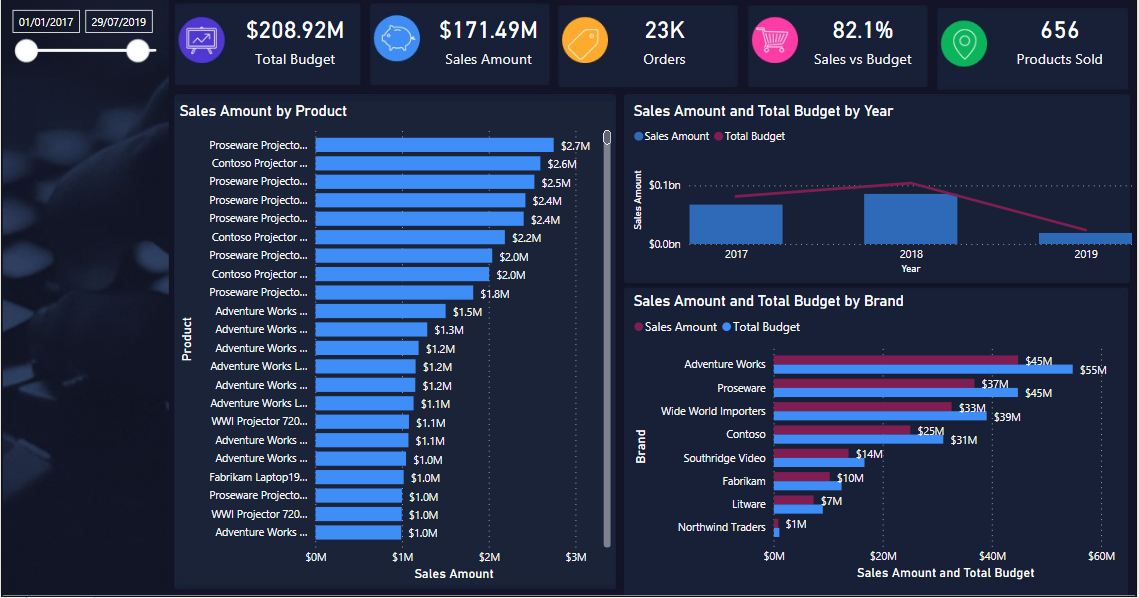

This screenshot's page, from the dashboard's own definition file:
{"tool":"powerbi","page":{"name":"Sales","canvas":[1280,720],"ordinal":0},"visuals":[{"type":"clusteredBarChart","fields":{"Category":["Product.Product"],"Y":["Sales.Sales Amount"]},"box":[196,161.9,495.6,543.9],"z":0},{"type":"clusteredBarChart","fields":{"Category":["Product.Brand"],"Y":["Sales.Sales Amount","Budget.Total Budget"]},"box":[707.2,376.3,572.3,329.5],"z":1000},{"type":"lineClusteredColumnComboChart","fields":{"Category":["Date.Date.Variation.Date Hierarchy.Year","Date.Date.Variation.Date Hierarchy.Quarter","Date.Date.Variation.Date Hierarchy.Month","Date.Date.Variation.Date Hierarchy.Day"],"Y2":["Budget.Total Budget"],"Y":["Sales.Sales Amount"]},"box":[707.2,161.9,572.3,198.8],"z":2000},{"type":"card","fields":{"Values":["Sales.Sales Amount"]},"box":[478.6,48.3,140.6,83.8],"z":3000},{"type":"card","fields":{"Values":["Budget.Total Budget"]},"box":[259.9,48.3,142,83.8],"z":4000},{"type":"card","fields":{"Values":["Sales.Orders"]},"box":[676,48.3,143.4,83.8],"z":5000},{"type":"card","fields":{"Values":["Budget.Sales vs Budget"]},"box":[893.3,48.3,154.8,83.8],"z":6000},{"type":"card","fields":{"Values":["Sales.Products Sold"]},"box":[1123.3,48.3,139.2,83.8],"z":7000},{"type":"slicer","fields":{"Values":["Date.Date"]},"box":[0,48.3,196,98],"z":8000}]}

Visuals, with their boxes on the page's 1280x720 design canvas (x1, y1, x2, y2). These are canvas units, not pixel positions in the 1139x598 screenshot, which may show the page scaled, cropped or inside an application window:
clusteredBarChart - Product.Product x Sales.Sales Amount: [left=196, top=162, right=692, bottom=706]
clusteredBarChart - Product.Brand x Sales.Sales Amount: [left=707, top=376, right=1280, bottom=706]
lineClusteredColumnComboChart - Date.Date.Variation.Date Hierarchy.Year x Date.Date.Variation.Date Hierarchy.Quarter: [left=707, top=162, right=1280, bottom=361]
card - Sales.Sales Amount: [left=479, top=48, right=619, bottom=132]
card - Budget.Total Budget: [left=260, top=48, right=402, bottom=132]
card - Sales.Orders: [left=676, top=48, right=819, bottom=132]
card - Budget.Sales vs Budget: [left=893, top=48, right=1048, bottom=132]
card - Sales.Products Sold: [left=1123, top=48, right=1262, bottom=132]
slicer - Date.Date: [left=0, top=48, right=196, bottom=146]
